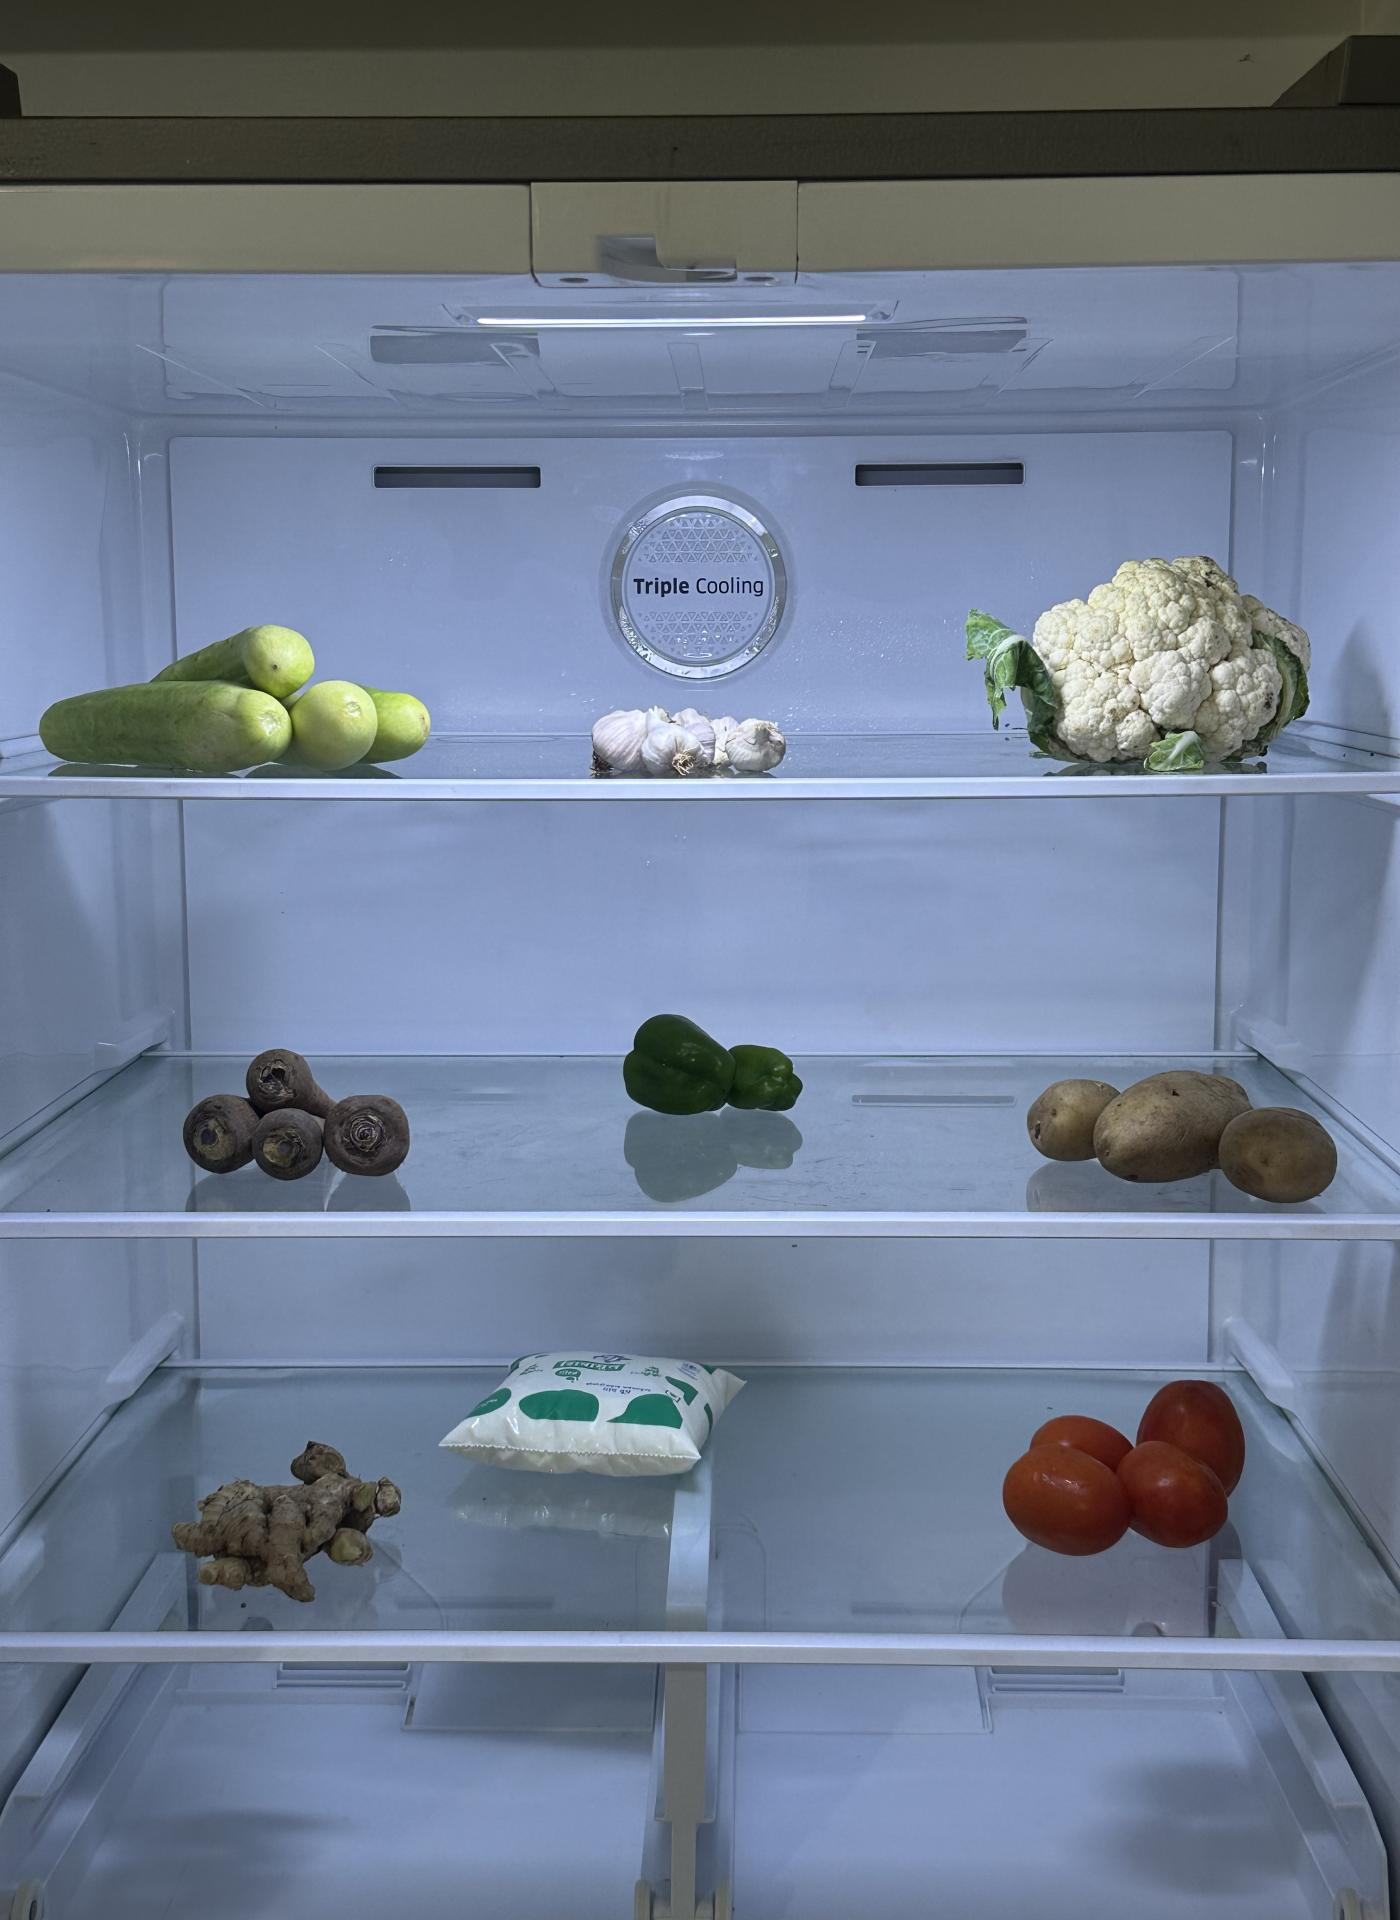capsicum: (616, 1012, 804, 1122)
carrots: (183, 1038, 422, 1188)
cauliflower: (1021, 547, 1319, 766)
cucumber: (28, 628, 423, 798)
garlic: (584, 707, 805, 780)
ginger: (171, 1436, 409, 1600)
milk: (444, 1339, 747, 1480)
potato: (1024, 1054, 1340, 1203)
tomato: (997, 1376, 1248, 1558)
